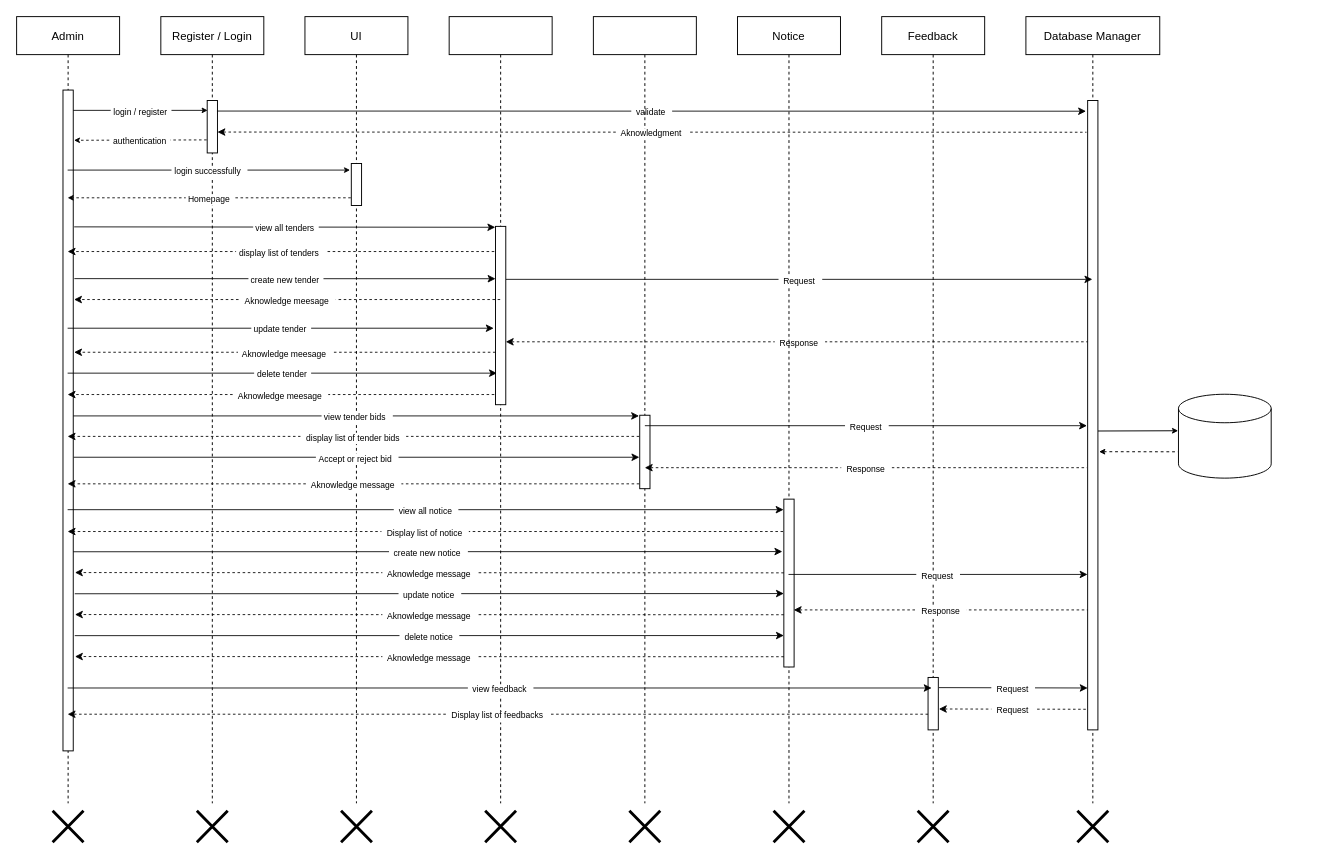
The diagram is 1344 pixels wide and 860 high, and some of its shapes have lost their labels. The centre of each missing label's shape, as x and y in pixels:
Bid: (644,409)
Database: (1224,435)
Tender: (500,409)
